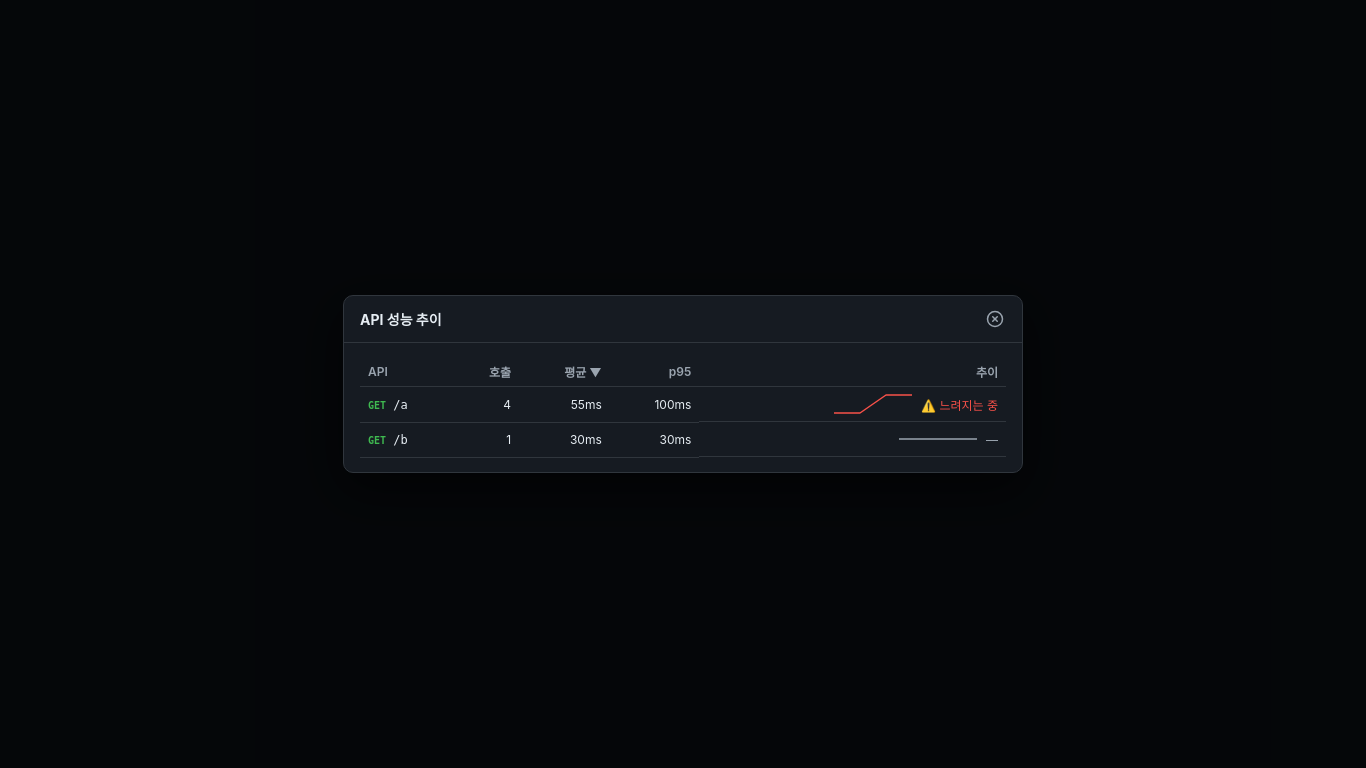
it: PerfModal › 평균 헤더 클릭 시 ▼ 표시, 재클릭 시 ▲로 토글된다
// 재클릭 → asc → ▲
Click the column heading "평균 ▼". click: [564, 372]
box: [519, 357, 610, 387]
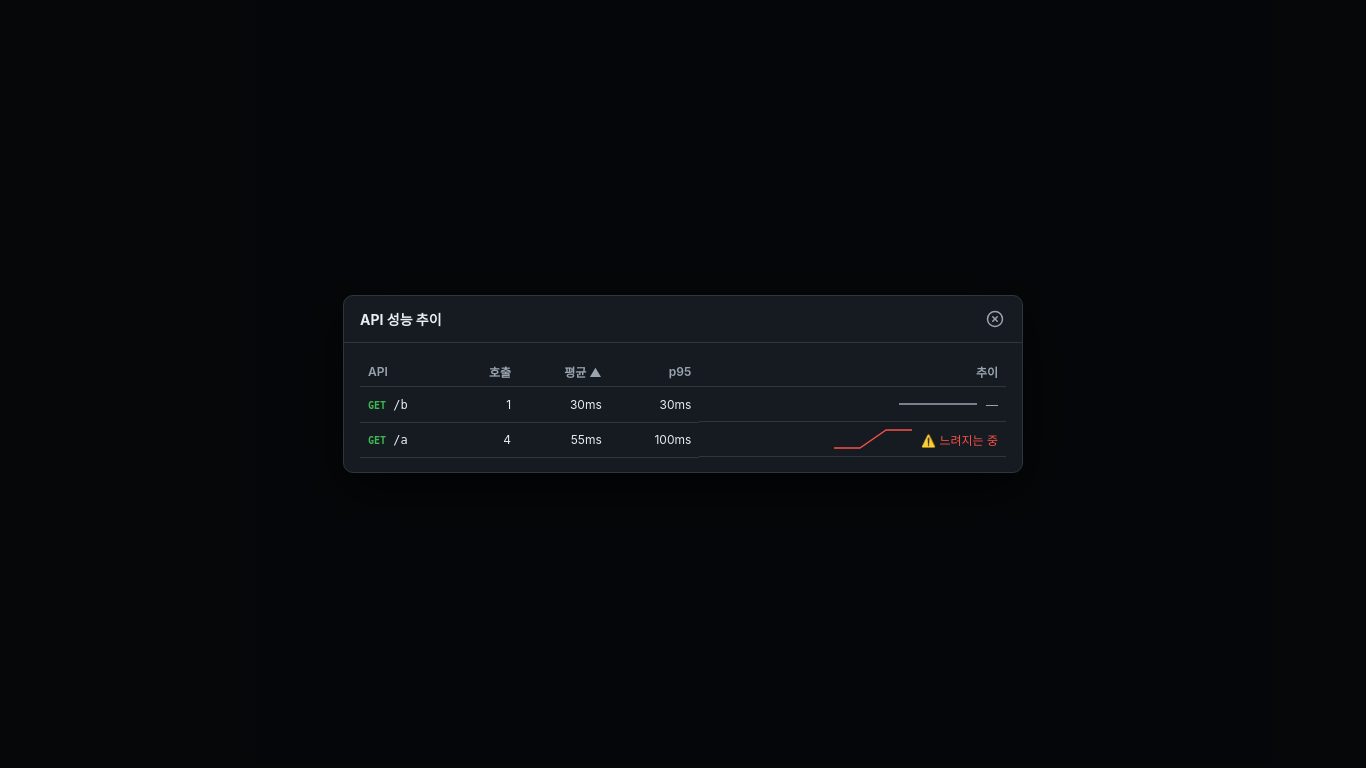
Expected: the column heading "평균 ▲" is shown
// 한 번 더 클릭 → desc → ▼
Click the column heading "평균 ▲". click: [564, 372]
box: [519, 357, 610, 387]
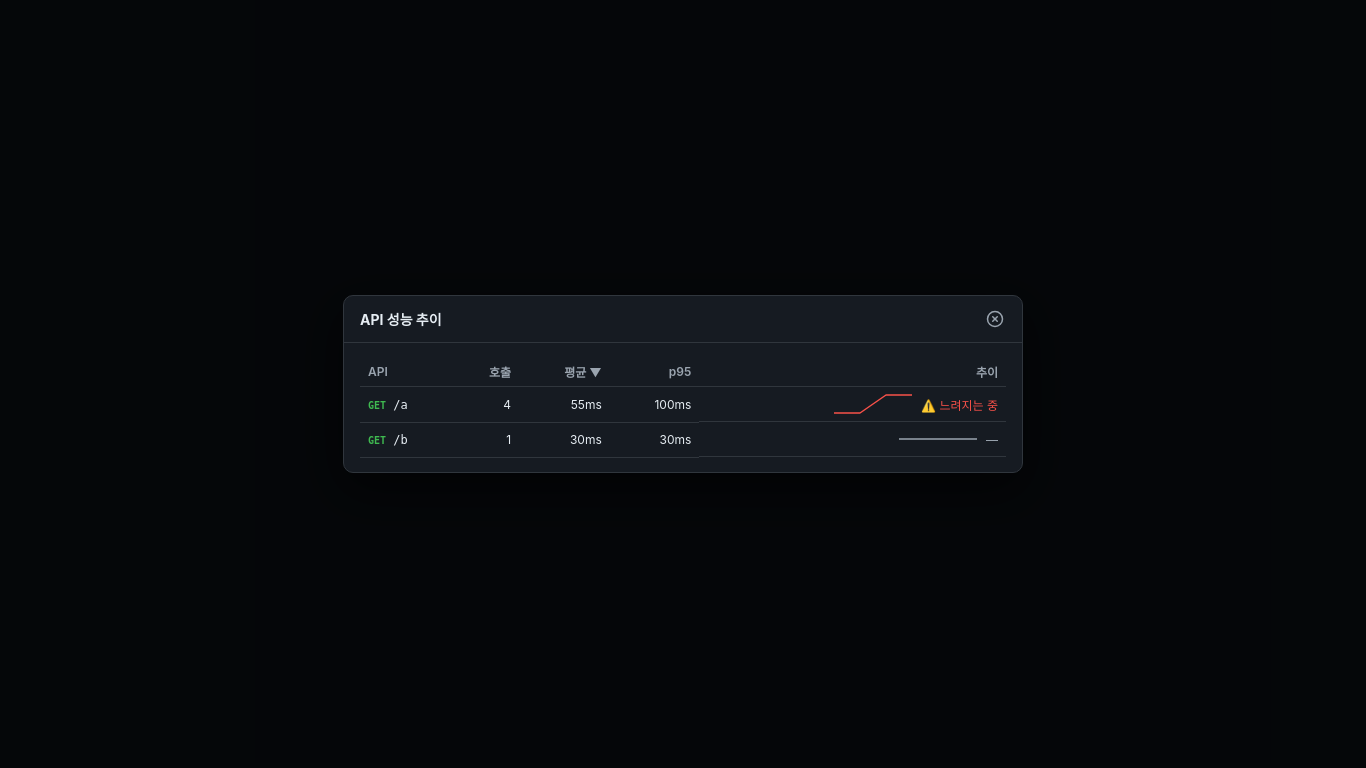
Expected: the column heading "평균 ▼" is shown, [519, 357, 610, 387]
